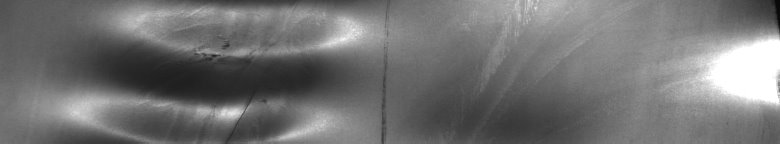ke: (136, 4, 385, 136)
